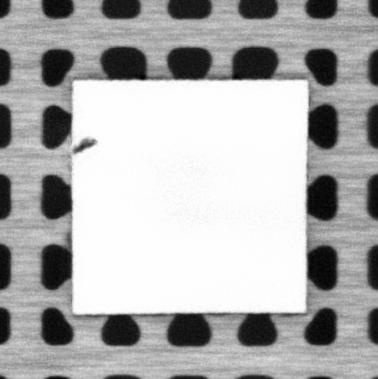DIE_INK: (72, 137, 99, 154)
